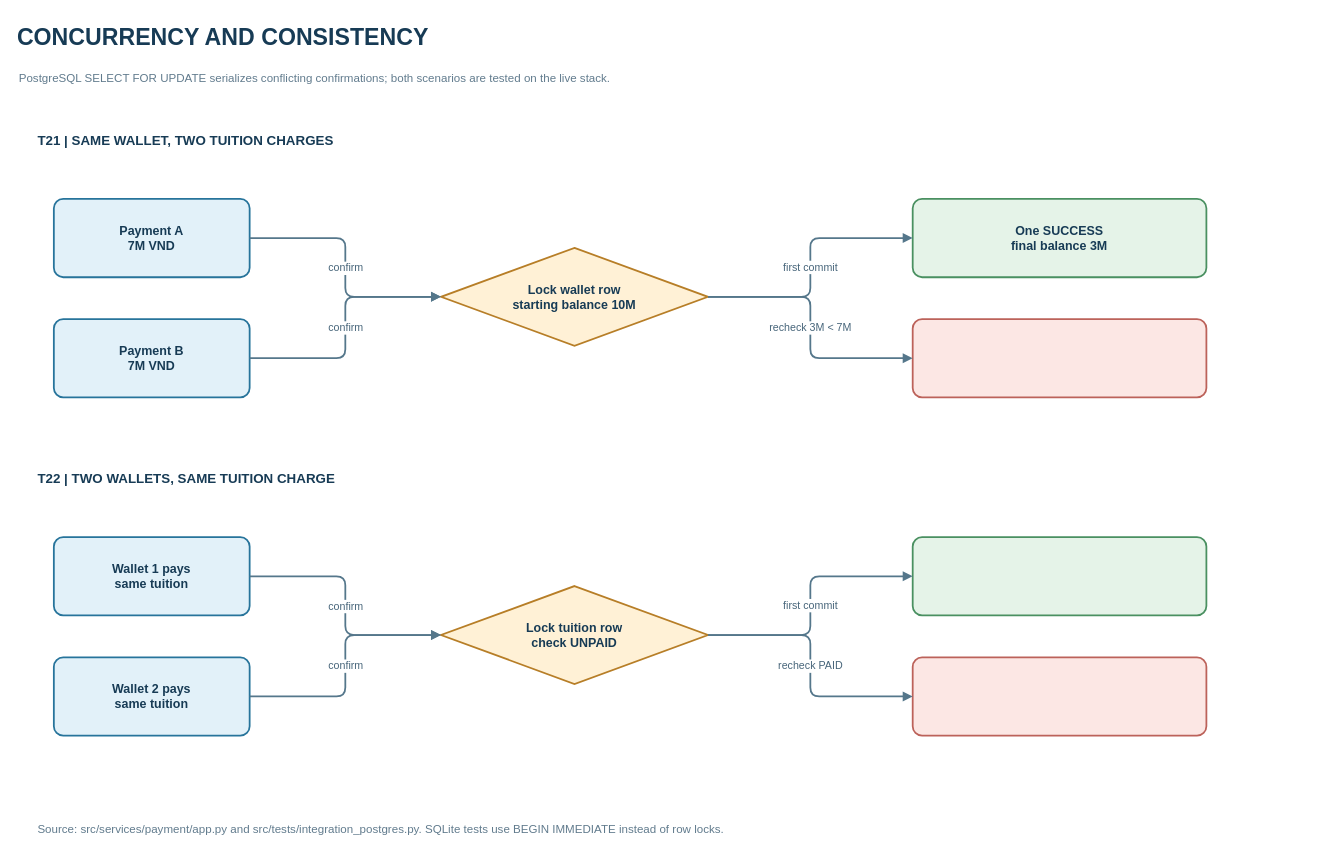
The diagram is 1344 pixels wide and 863 high, and some of its shapes have lost their labels. Each missing label, with the centre of its shape:
One SUCCESS tuition becomes PAID: [1059,576]
Other: 409 TUITION_ALREADY_PAID second wallet unchanged: [1059,696]
Other: 422 INSUFFICIENT_BALANCE: [1059,358]
